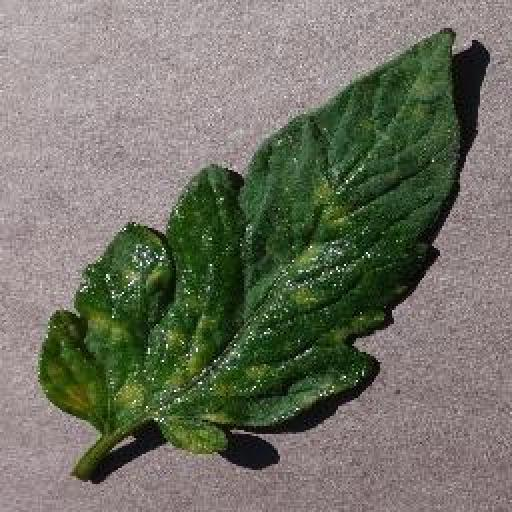disease_tomato: (40, 21, 464, 451)
